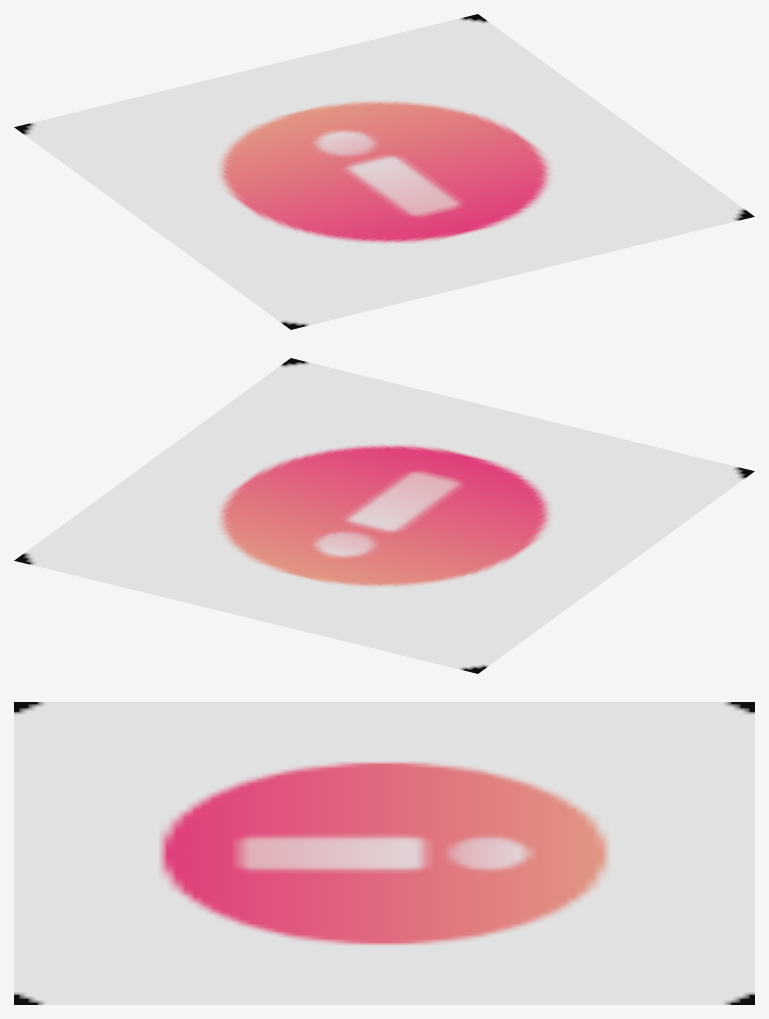
File: Info Button Animated.fbx
3 renders of one model, top to bottom at view 1: azimuth 30°, elevation 25°; view 2: azimuth 150°, elevation 25°; view 3: azimuth 270°, elevation 25°, orthographic. The views are drawn at different scales.
Visible parts, largest first — view 1: Plane001; view 2: Plane001; view 3: Plane001.
Boxes of the visible parts, <box> form: Plane001: <box>14,14,754,329</box>; Plane001: <box>14,358,754,673</box>; Plane001: <box>14,702,754,1004</box>.
Size of the model in its own units: 0.9328 by 5.9e-17 by 0.9642.
Materials: 1 (1 with a texture image).
